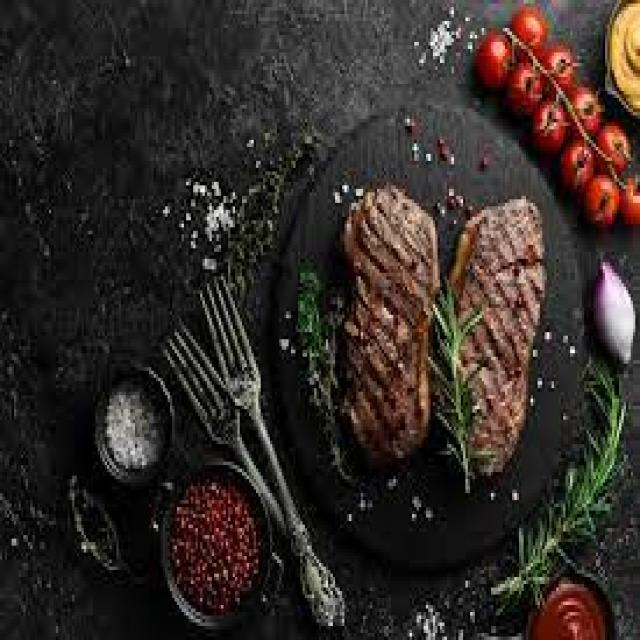Carne: (335, 178, 440, 465)
